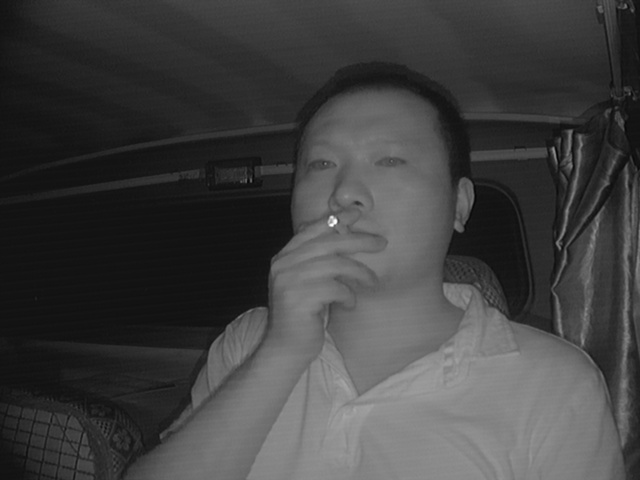hand: (280, 210, 377, 322)
